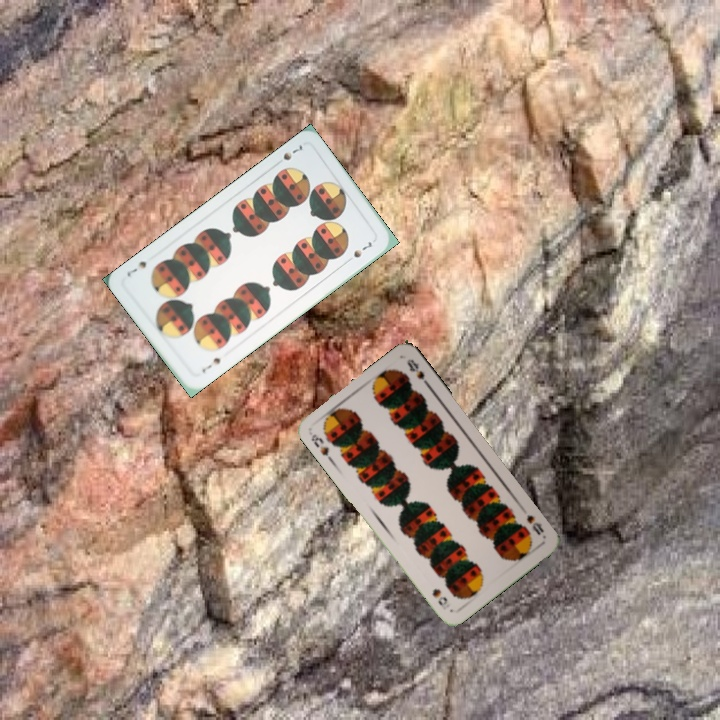S7: (279, 140, 305, 163), (198, 353, 223, 376)
S8: (307, 430, 336, 465), (523, 510, 547, 538)
